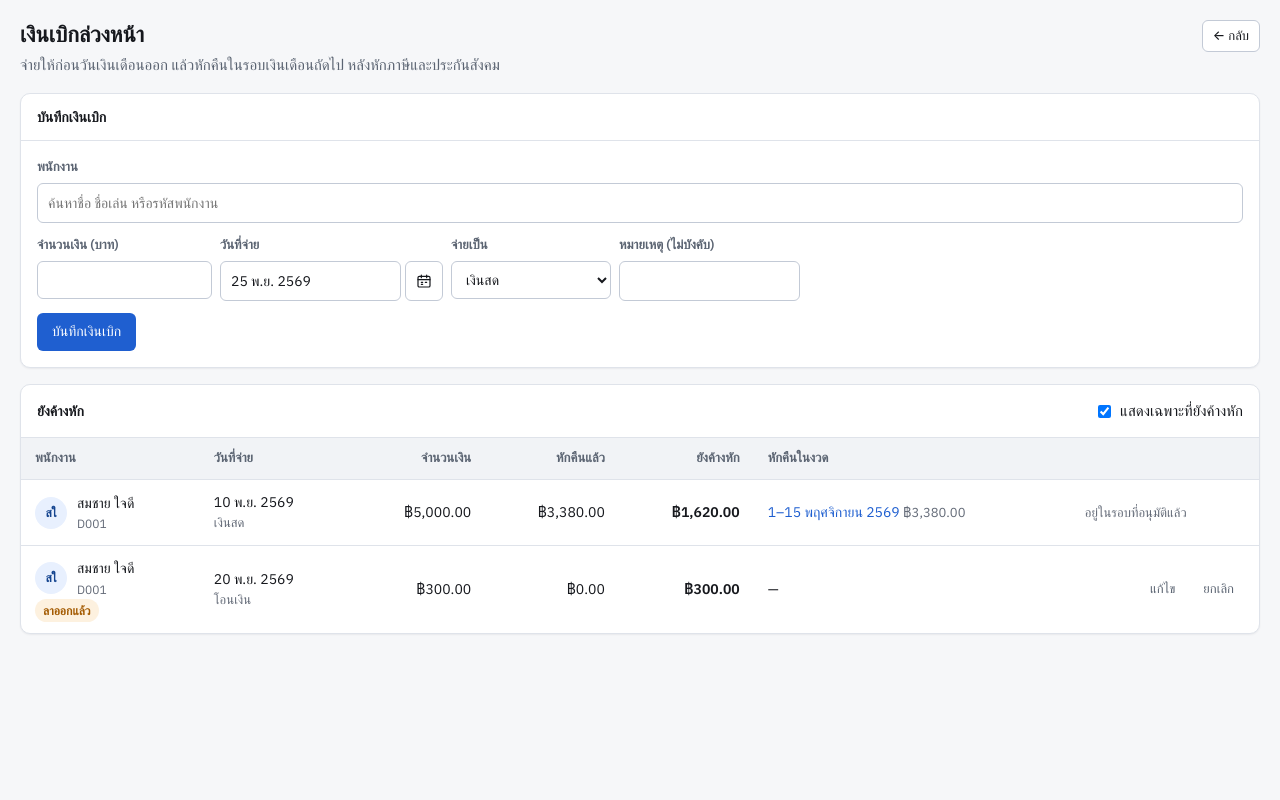
Scenario: Cash advances (CW-070) › says in Thai why an advance can no longer be cancelled
What coordinates should you click on to do the following:
click the button with aria-label "ยกเลิกเงินเบิกของ สมชาย ใจดี"
I would click on:
 (1219, 590)
Its box is [1192,574,1245,606].
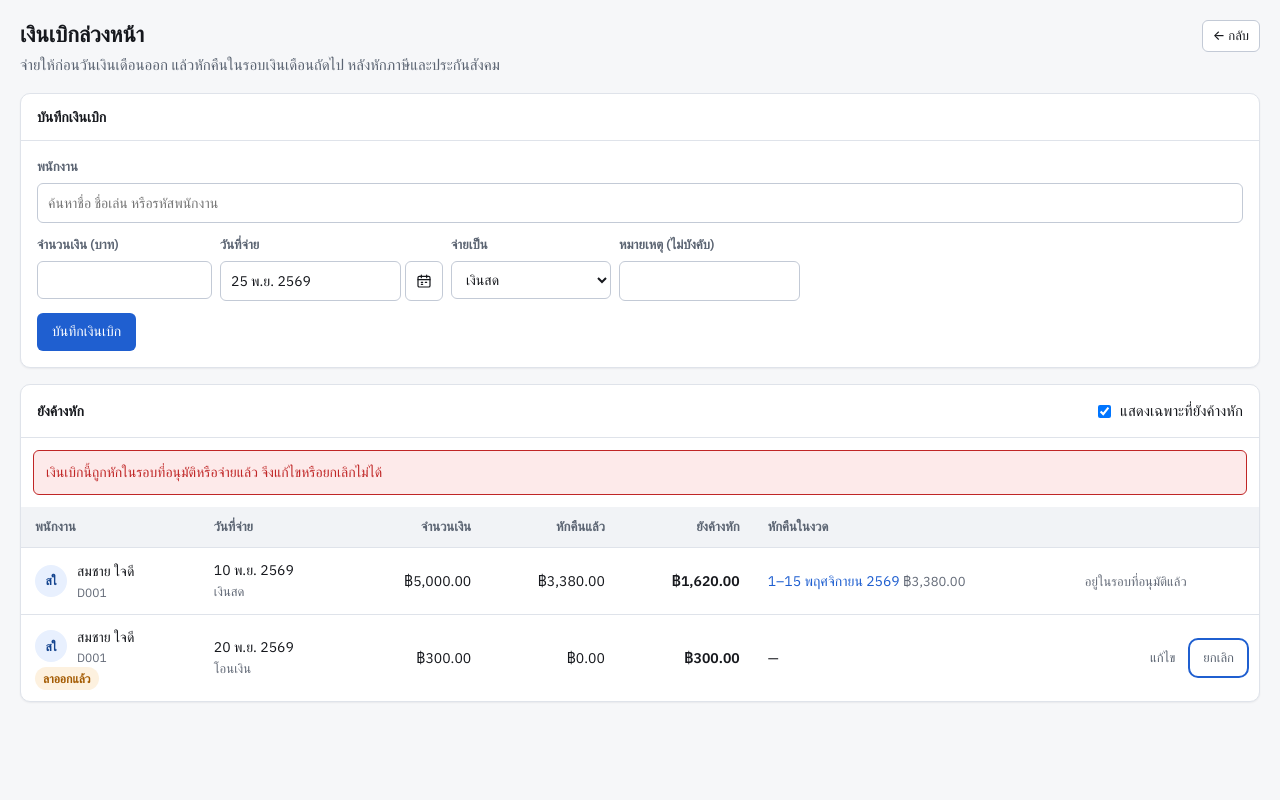
Expected: the message reads "เงินเบิกนี้ถูกหักในรอบที่อนุมัติหรือจ่ายแล้ว จึงแก้ไขหรือยกเลิกไม่ได้", [46,463,382,481]
